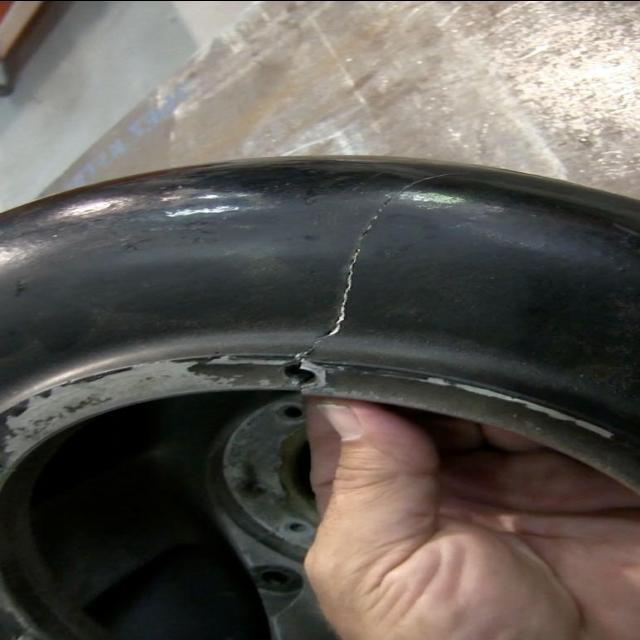defect: (293, 169, 477, 361)
